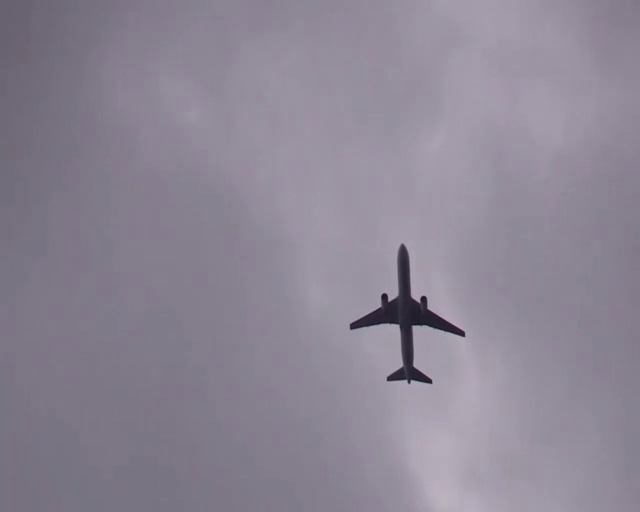AIRPLANE: (350, 243, 465, 384)
